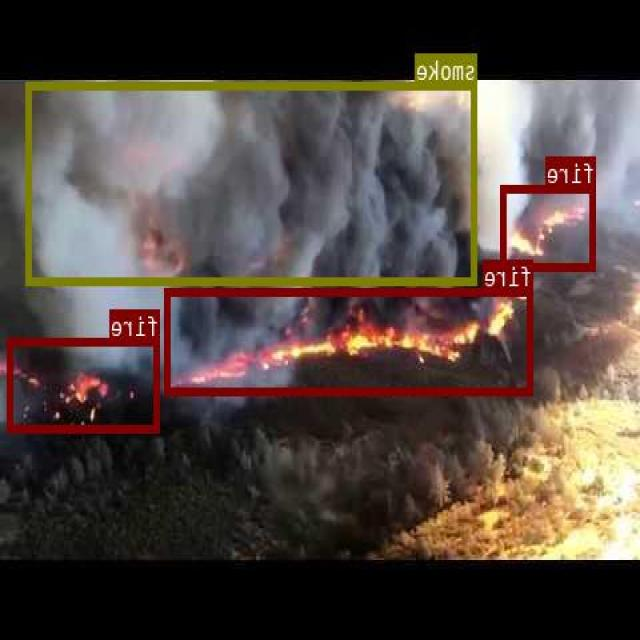fire: (166, 287, 534, 394), (9, 337, 160, 431), (503, 184, 597, 270)
smoke: (27, 81, 478, 283)
